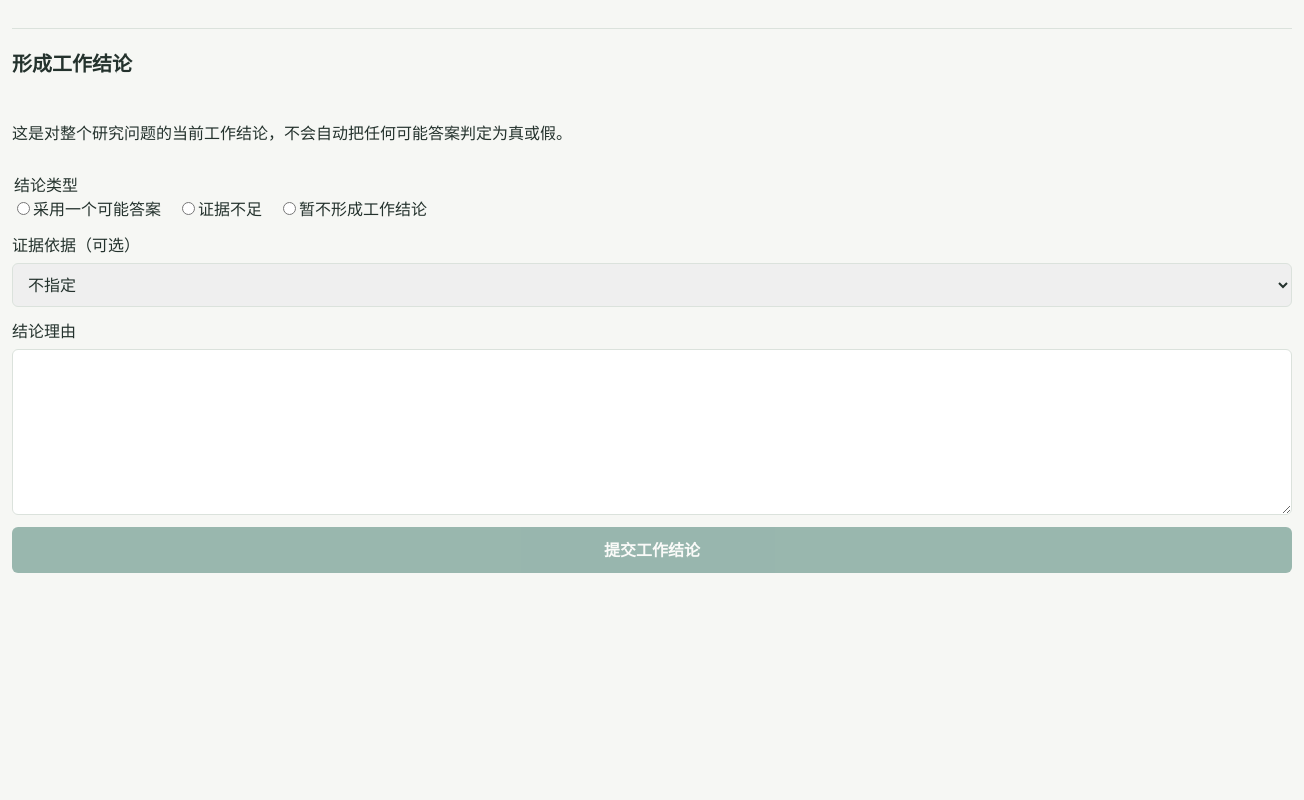
Test: Issue Resolution Composer › uses the authoritative current pointer and supports preferred Claim + optional evidence basis
The width and height of the screenshot is (1304, 800).
Check: the heading "形成工作结论" is shown, box [12,52,132,76]
Click the radio button labelled "采用一个可能答案" at (24, 208), box [17,202,30,215]
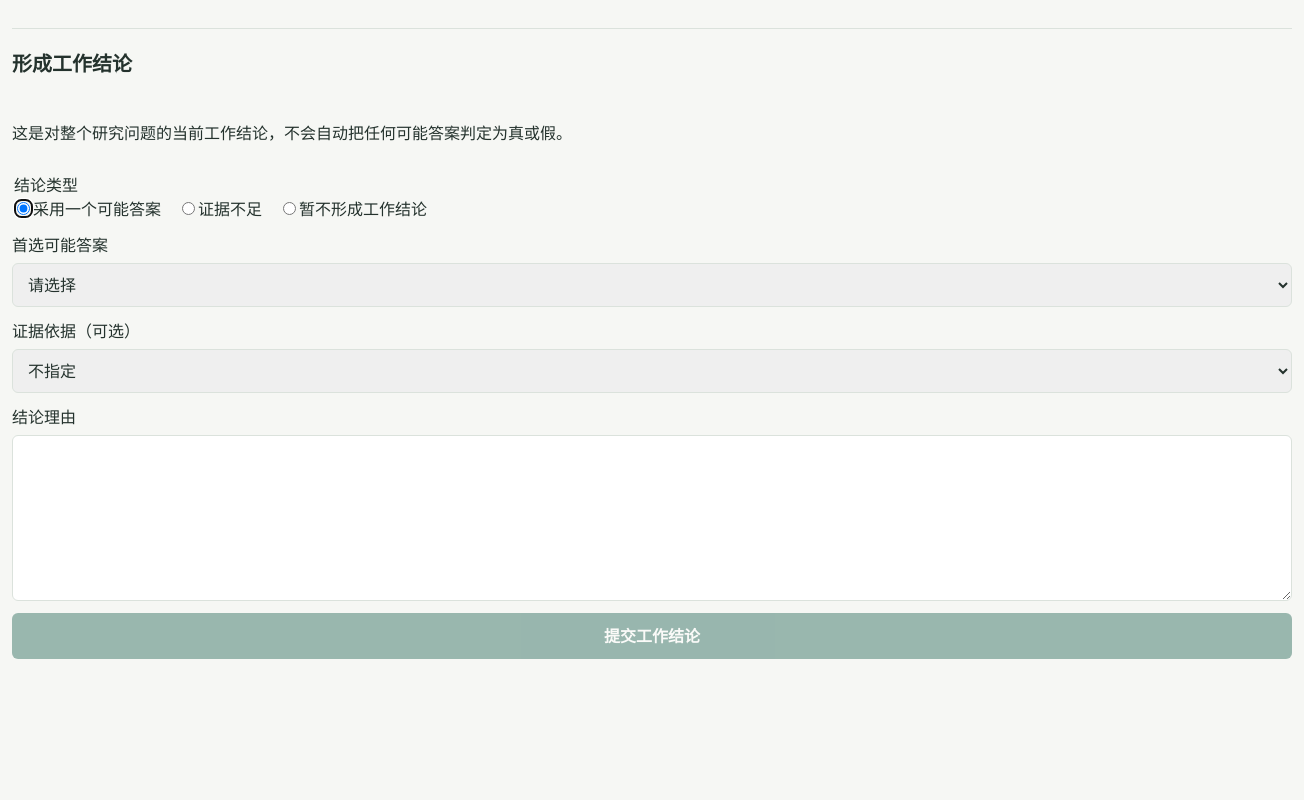
Select "可能答案 A" in the dropdown labelled "首选可能答案" at (652, 285), box [12,263,1292,307]
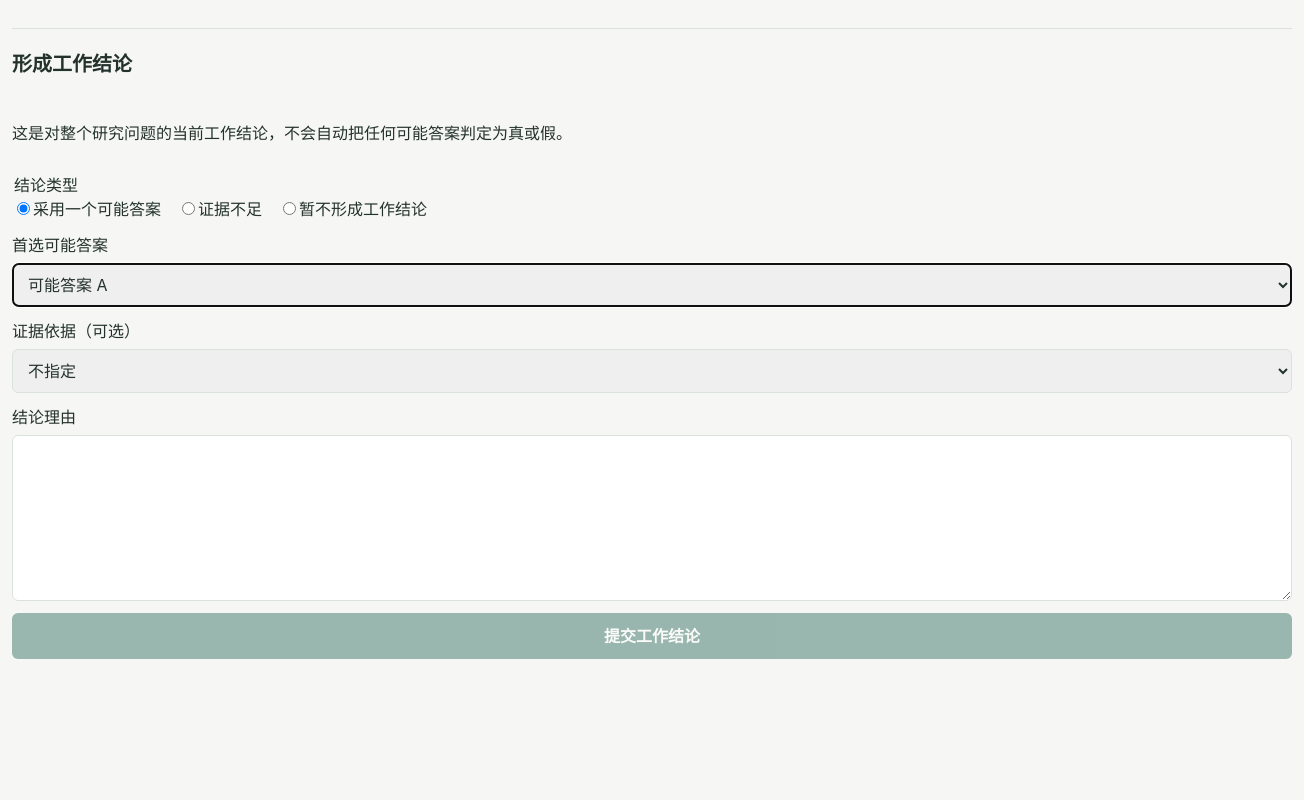
Type "现有证据最支持这个解释。" into the text box labelled "结论理由" at (652, 518), box [12,435,1292,601]
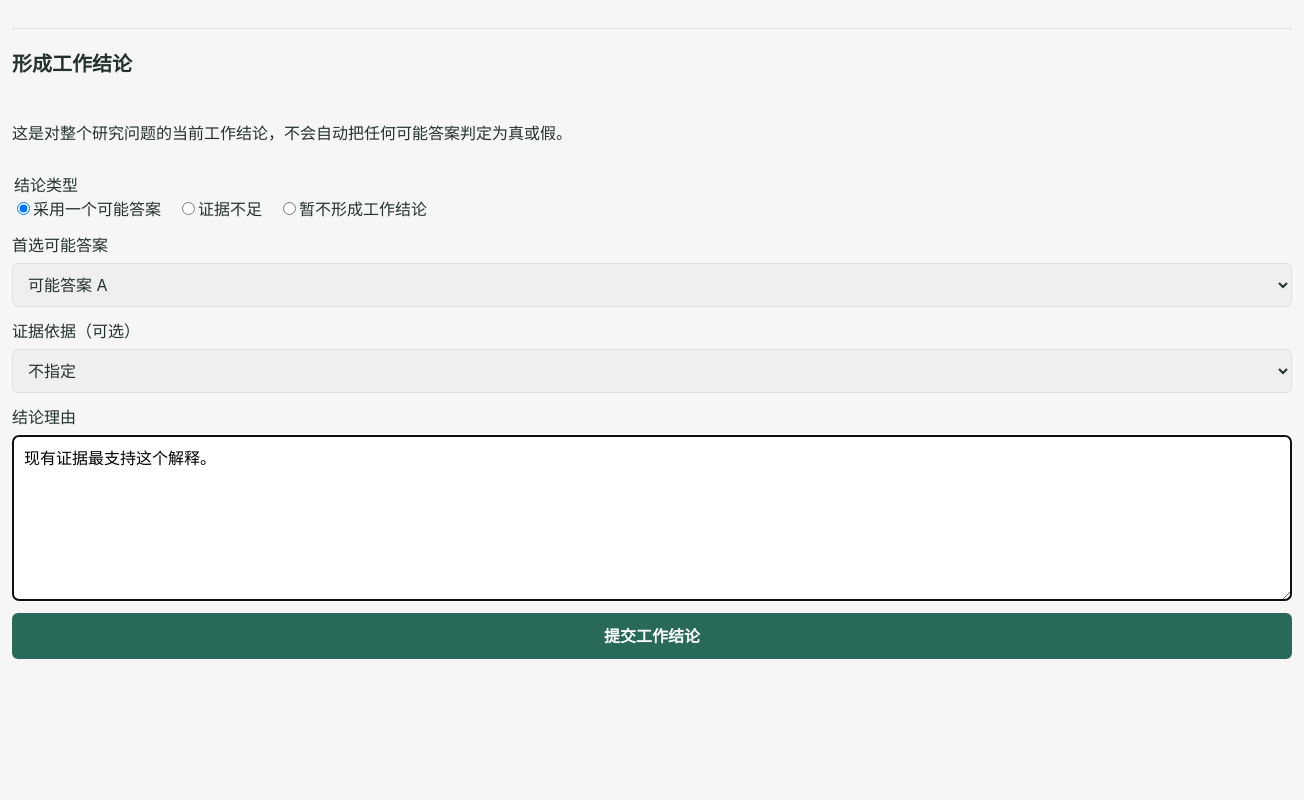
Select "可能答案 A · SUPPORTS · HIGH · 2 条证据" in the dropdown labelled "证据依据（可选）" at (652, 371), box [12,349,1292,393]
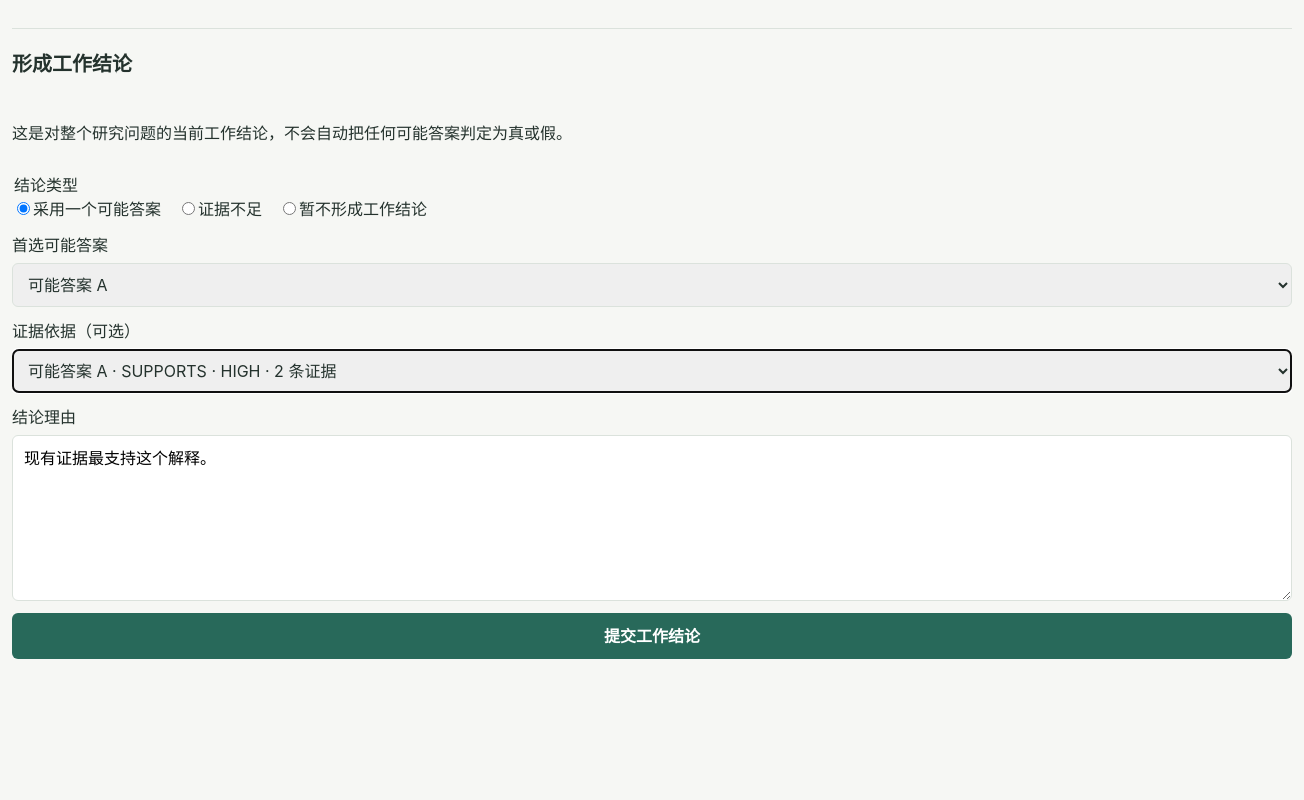
Click the button "提交工作结论" at (652, 636), box [12,613,1292,659]
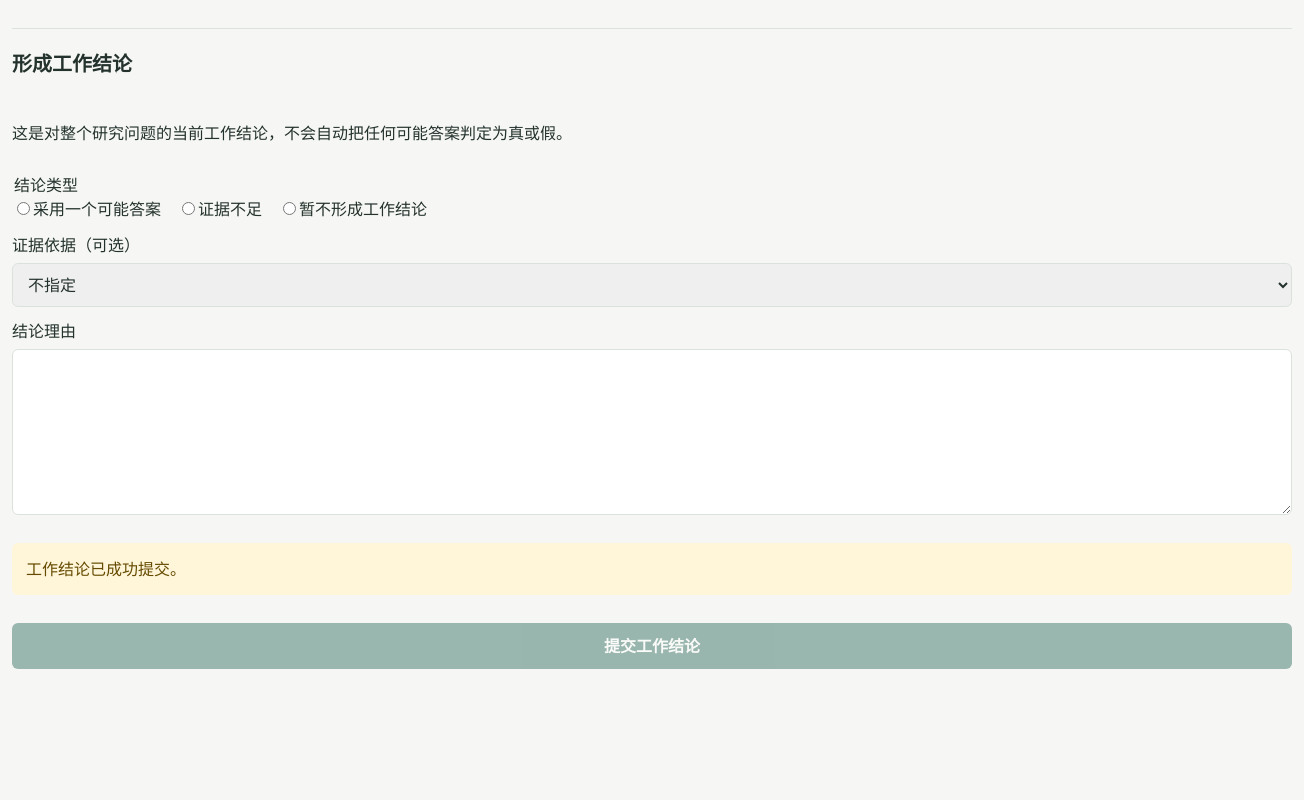
Check: the text "工作结论已成功提交。" is shown, box [12,543,1292,595]
